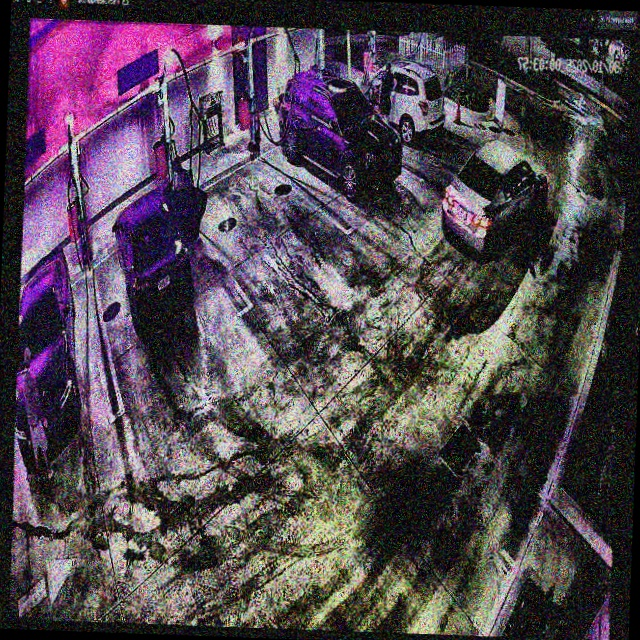Car: (275, 67, 406, 197), (108, 174, 204, 327), (440, 140, 551, 262), (353, 59, 447, 142)
